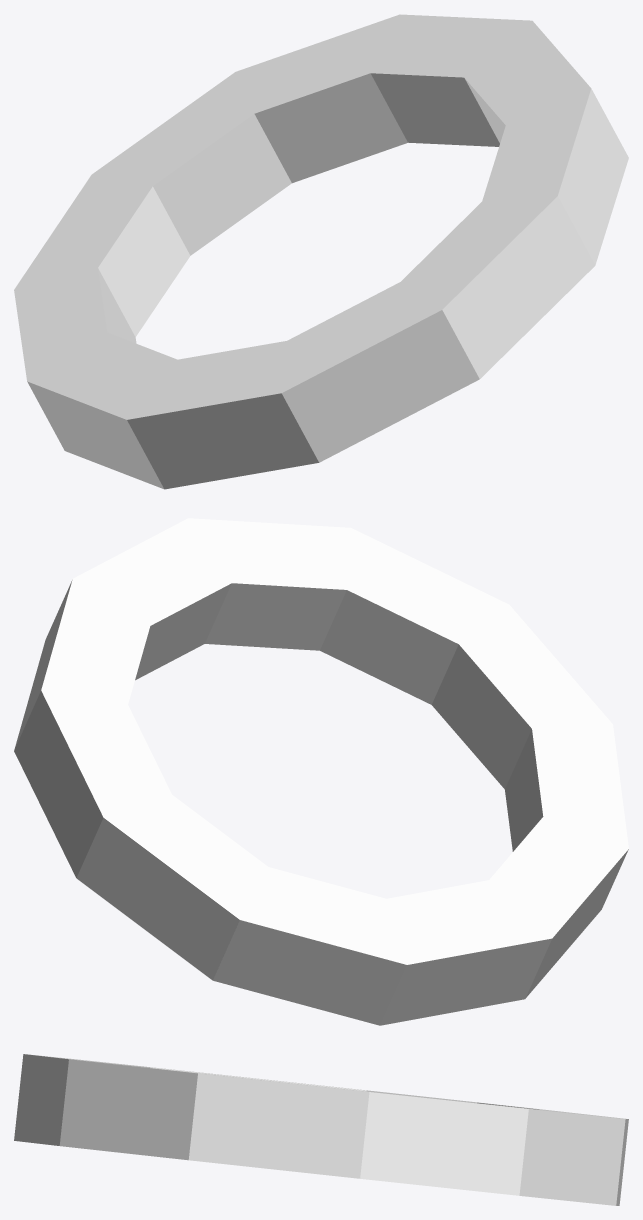
The model's file is angel-white.gltf.
3 views of the same model, one above another, from view 1: azimuth 30°, elevation 25°; view 2: azimuth 150°, elevation 25°; view 3: azimuth 270°, elevation 25° (orthographic). The views are drawn at different scales.
Visible parts, largest first — view 1: a2$$(1)-Local, a4-Local, a3-Local, a2$$(4)-Local, a5-Local, a2$$(2)-Local, Angel-Local, a2$$(3)-Local, a2-Local, a1-Local, a3$$(1)-Local; view 2: Angel-Local, a2$$(4)-Local, a4-Local, a5-Local, a1-Local, a2$$(2)-Local, a2$$(1)-Local, a3$$(1)-Local, a2-Local, a3-Local, a2$$(3)-Local; view 3: a3$$(1)-Local, a2$$(3)-Local, a2$$(2)-Local, a5-Local, a4-Local, a2$$(4)-Local.
Boxes of the visible parts, x1,y1,x2,y2 form: a2$$(1)-Local: (263,270,479,462); a4-Local: (385,190,595,378); a3-Local: (127,341,318,489); a2$$(4)-Local: (92,72,291,255); a5-Local: (230,14,407,183); a2$$(2)-Local: (477,88,628,265); Angel-Local: (14,169,190,336); a2$$(3)-Local: (351,14,531,146); a2-Local: (27,332,191,489); a1-Local: (14,254,136,380); a3$$(1)-Local: (456,21,590,143); Angel-Local: (213,860,410,1025); a2$$(4)-Local: (76,780,287,980); a4-Local: (320,528,508,704); a5-Local: (14,686,180,877); a1-Local: (371,877,551,1025); a2$$(2)-Local: (188,518,367,650); a2$$(1)-Local: (432,605,612,789); a3$$(1)-Local: (73,518,247,680); a2-Local: (478,803,628,998); a3-Local: (505,710,628,851); a2$$(3)-Local: (14,579,150,749); a3$$(1)-Local: (188,1073,378,1178); a2$$(3)-Local: (360,1092,528,1195); a2$$(2)-Local: (59,1059,209,1160); a5-Local: (469,1102,625,1205); a4-Local: (14,1054,134,1145); a2$$(4)-Local: (539,1109,628,1205).
Size of the model in its own units: 6.78 by 3.93 by 7.04.
11 materials, 11 textured.
